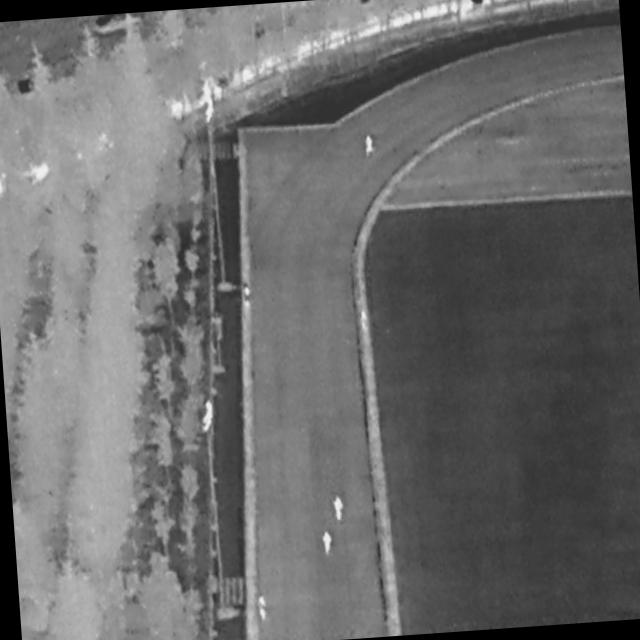person: (332, 493, 346, 523), (322, 530, 335, 557), (258, 591, 269, 622), (359, 310, 371, 336), (364, 132, 375, 158), (243, 285, 252, 308)
